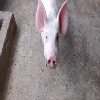heo: (34, 1, 70, 72)
